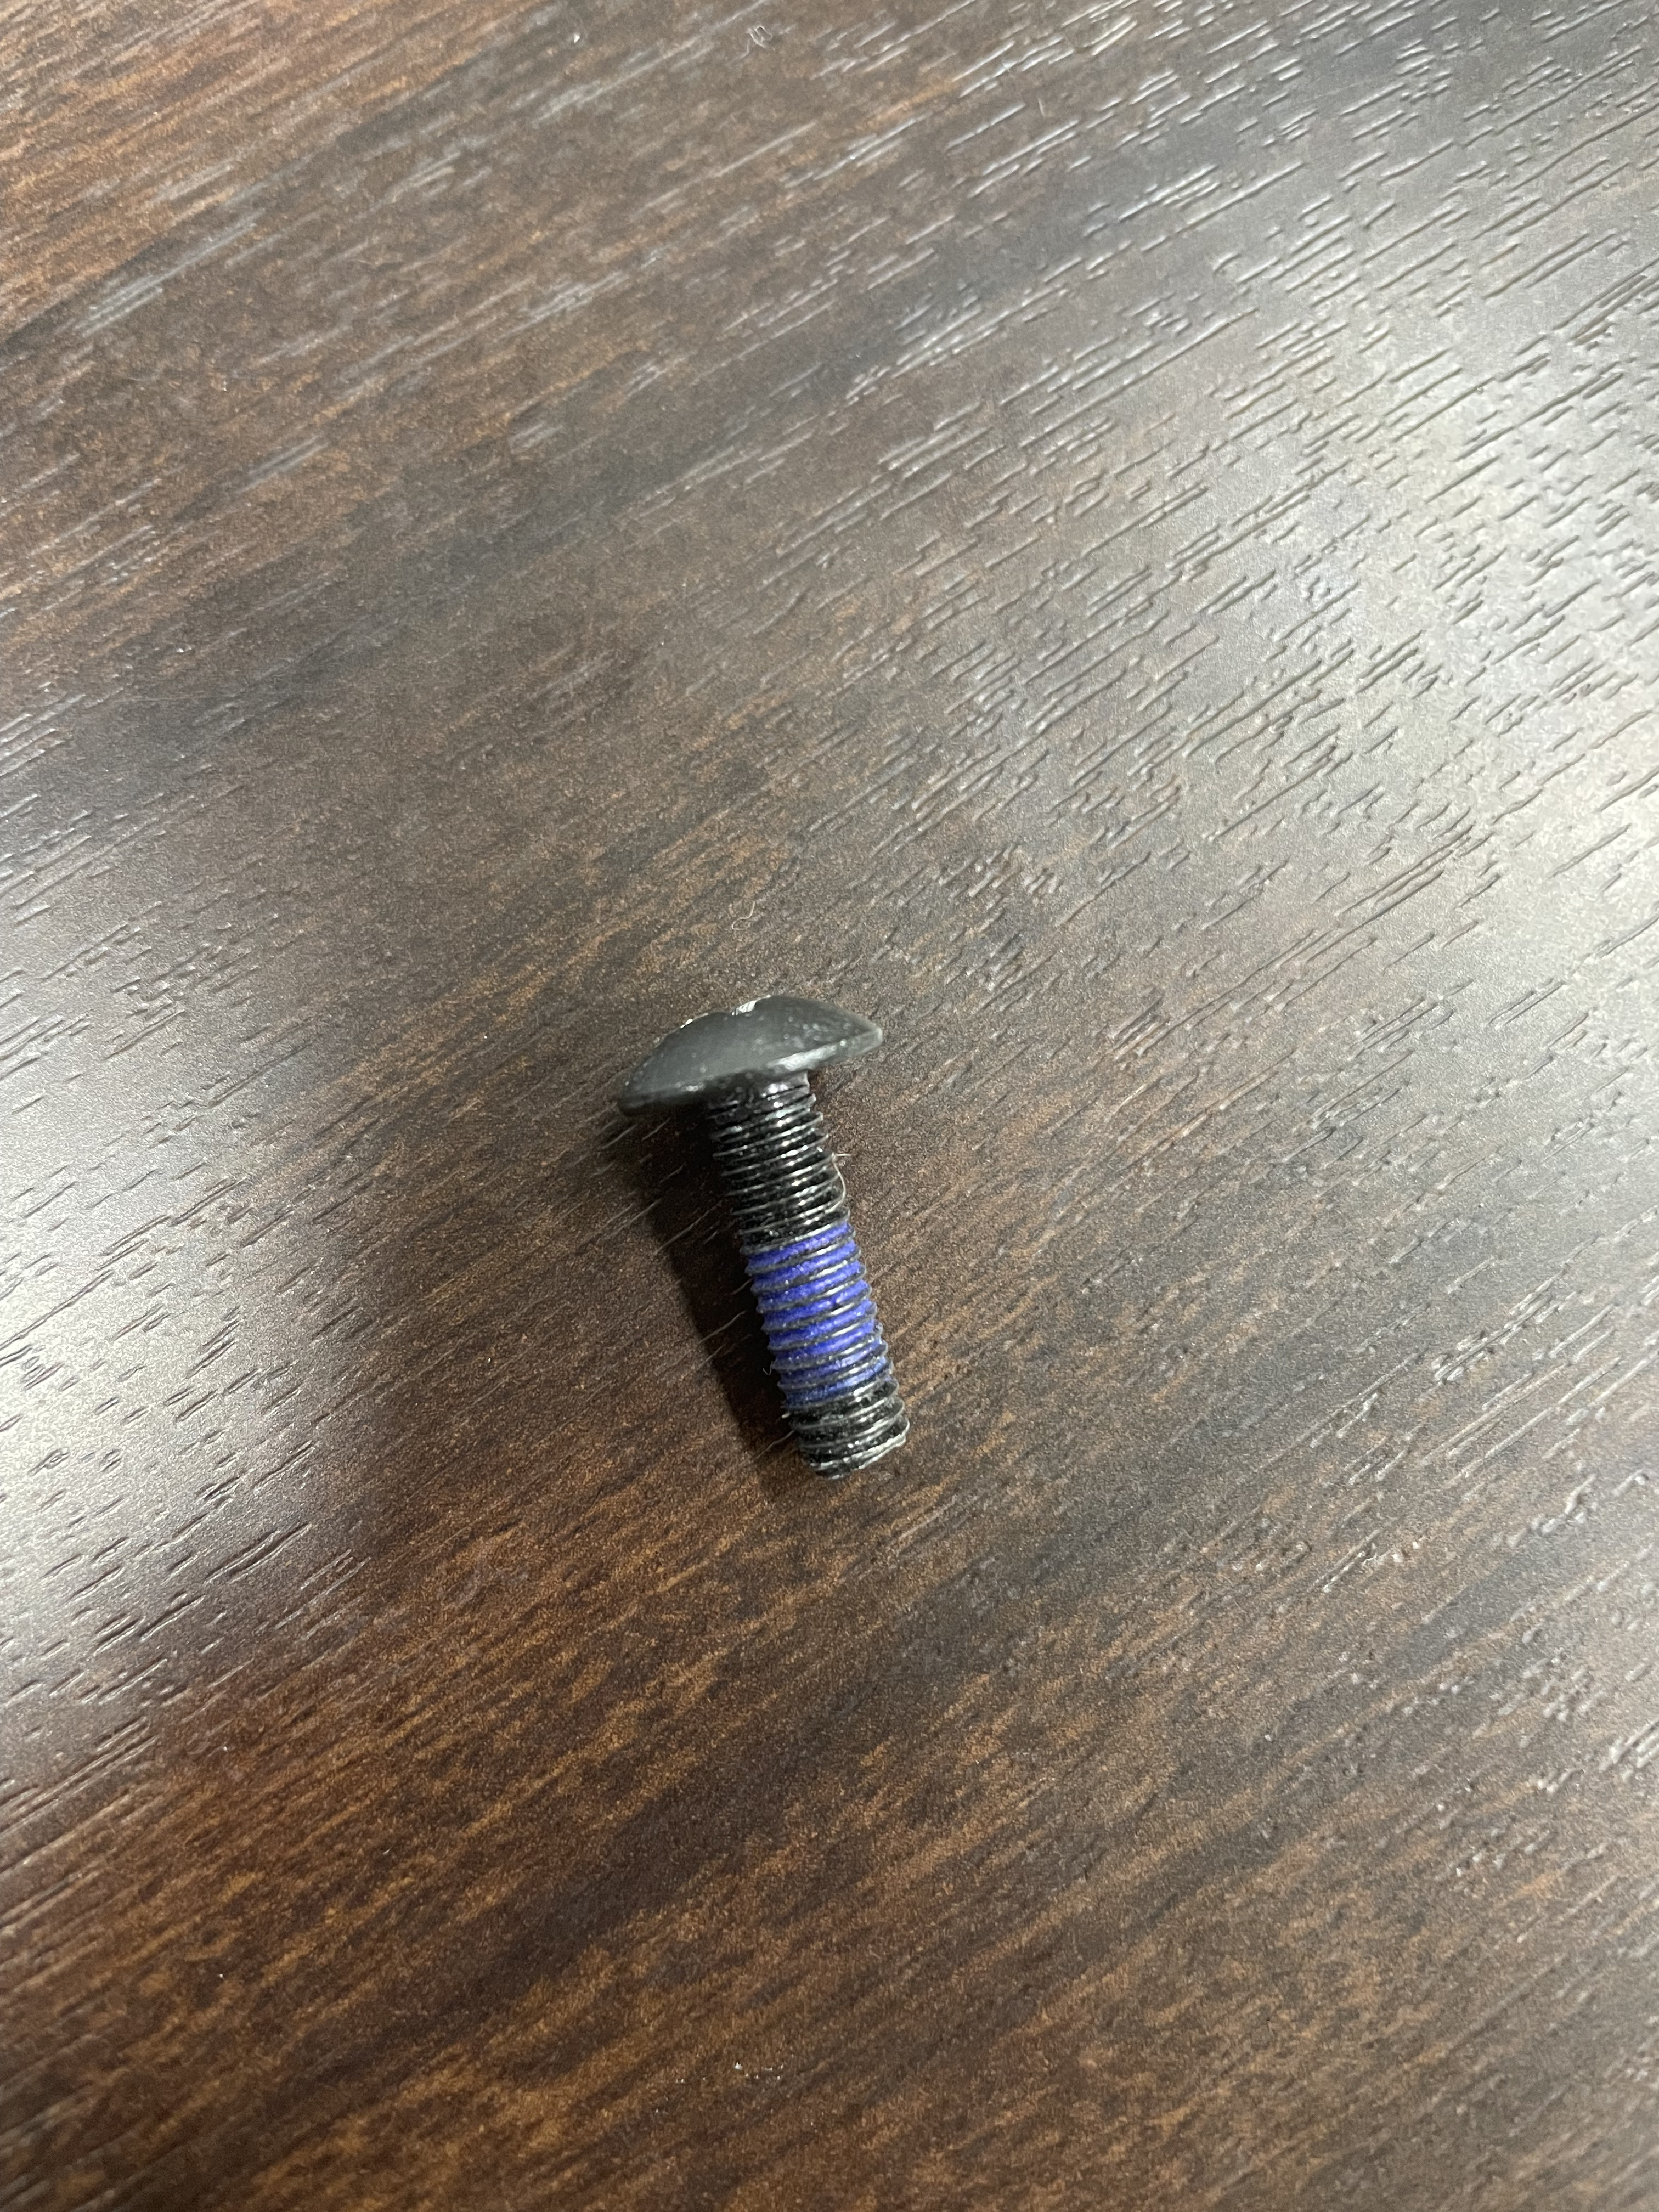screw1: (618, 991, 915, 1481)
